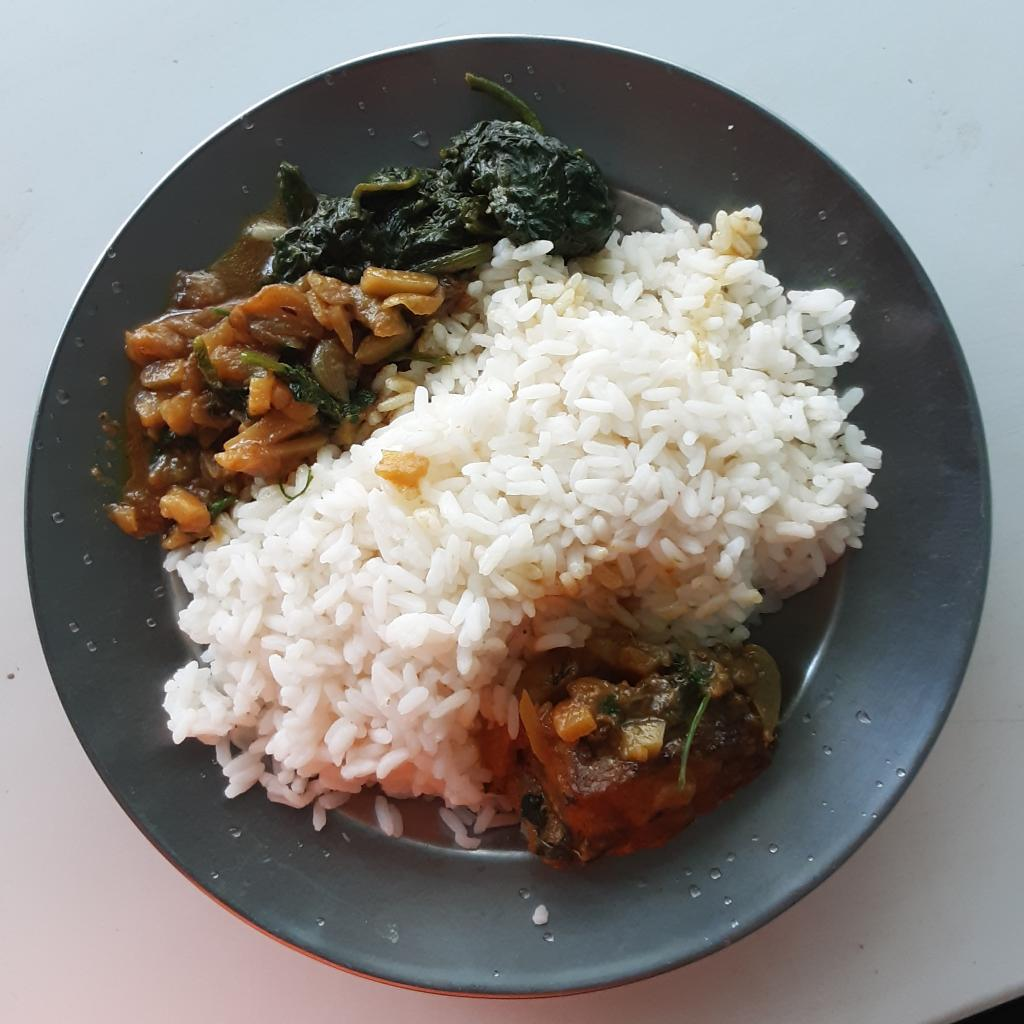fish: (504, 631, 785, 873)
khichuri: (104, 235, 448, 538)
rice: (155, 198, 882, 855)
shak: (259, 69, 619, 278)
